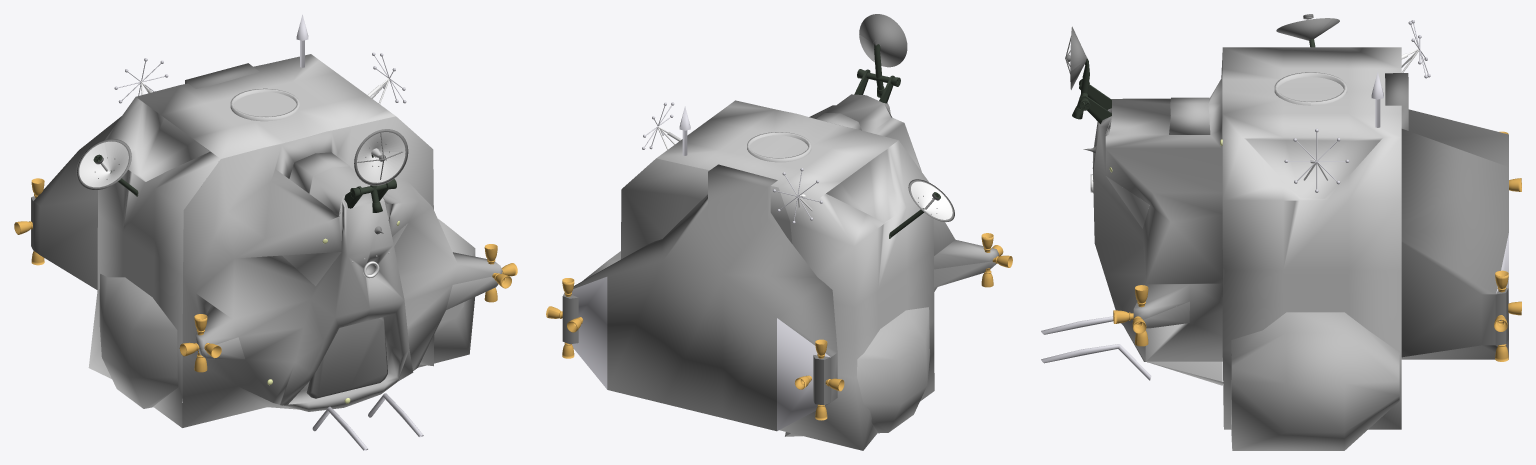
File: lunar-module-ascent.glb
The picture shows the model from 3 angles, left to right: view 1: azimuth 30°, elevation 25°; view 2: azimuth 150°, elevation 25°; view 3: azimuth 270°, elevation 25°; orthographic projection. The views are drawn at different scales.
Parts seen in each view (by area): view 1: ascent; view 2: ascent; view 3: ascent.
Part boxes in pixels (bbox=[...]): ascent: bbox=[14, 14, 517, 450]; ascent: bbox=[546, 14, 1012, 450]; ascent: bbox=[1041, 14, 1521, 450].
Size of the model in its own units: 4.72 by 3.84 by 4.89.
Materials: 1 (1 with a texture image).
